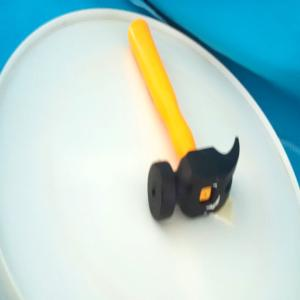martelo: (128, 18, 241, 222)
